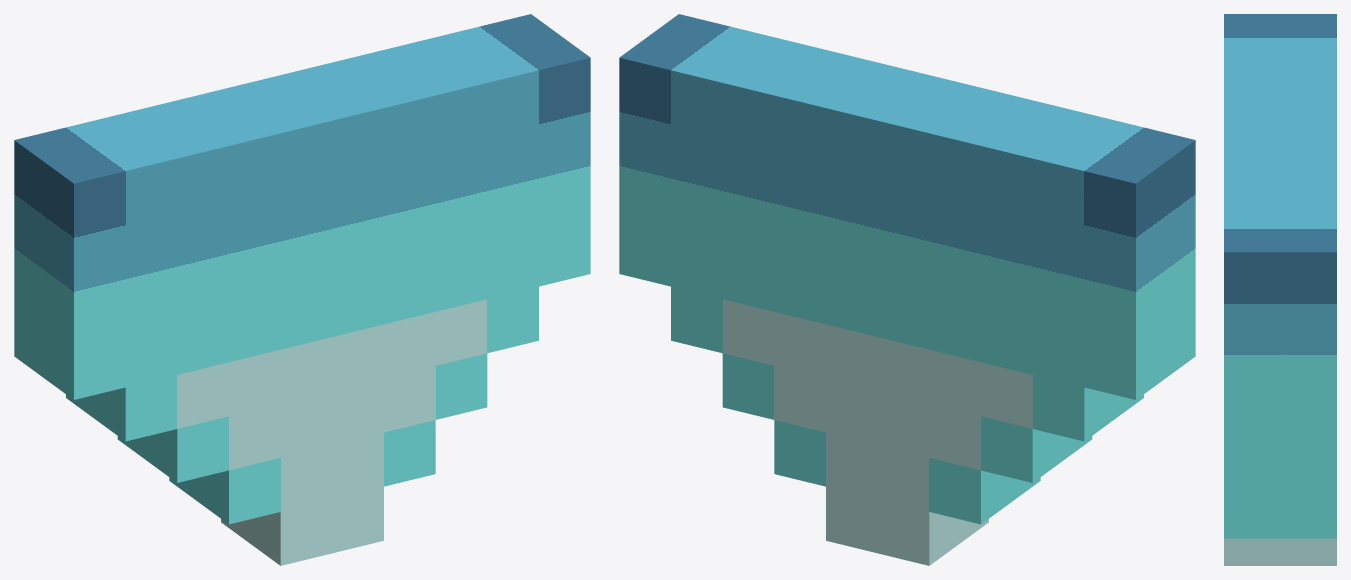
File: arrow.gltf
3 renders of one model, left to right at view 1: azimuth 30°, elevation 25°; view 2: azimuth 150°, elevation 25°; view 3: azimuth 270°, elevation 25°, orthographic. The views are drawn at different scales.
Visible parts, largest first — view 1: cube (×5); view 2: cube (×5); view 3: cube (×5).
Boxes of the visible parts, x1=… form: cube (×5): x1=14, y1=14, x2=590, y2=565; cube (×5): x1=619, y1=14, x2=1195, y2=565; cube (×5): x1=1224, y1=14, x2=1336, y2=565.
Bounding box in the file's own units: 0.625 × 0.5 × 0.125.
1 material, 1 textured.
